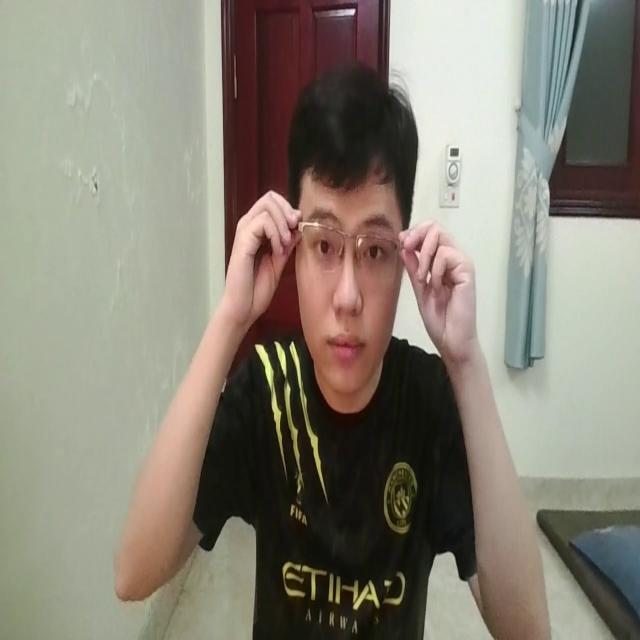student: (112, 57, 550, 640)
